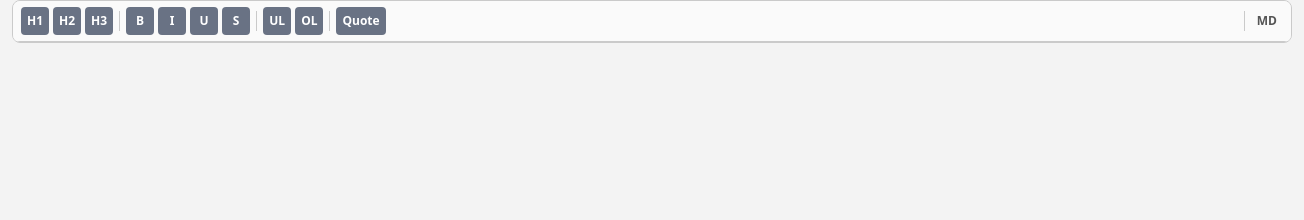
Test: AppEditor › formatting buttons are disabled in markdown mode
Click the button with aria-label "Toggle markdown mode": [1267, 21] box [1251,7,1283,35]
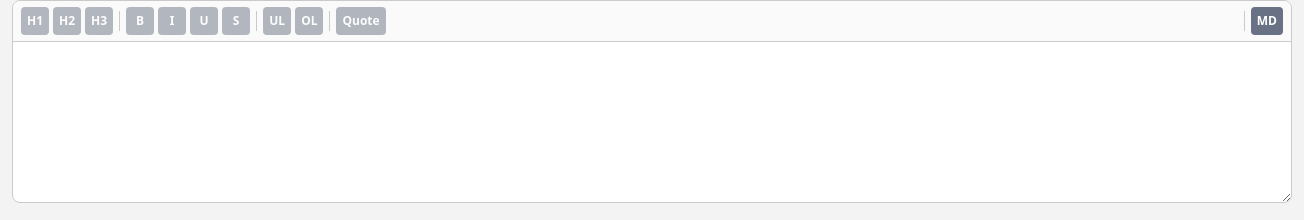
Result: the button "H1" is disabled at [21,7,49,35]
Result: the button "H2" is disabled at [53,7,81,35]
Result: the button "H3" is disabled at [85,7,113,35]
